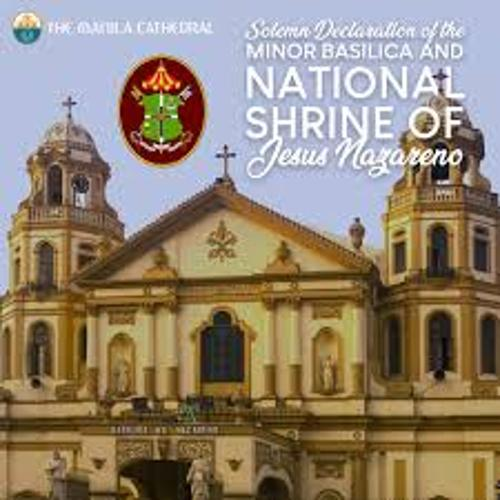Manila Cathedral Church: (8, 88, 500, 500)
